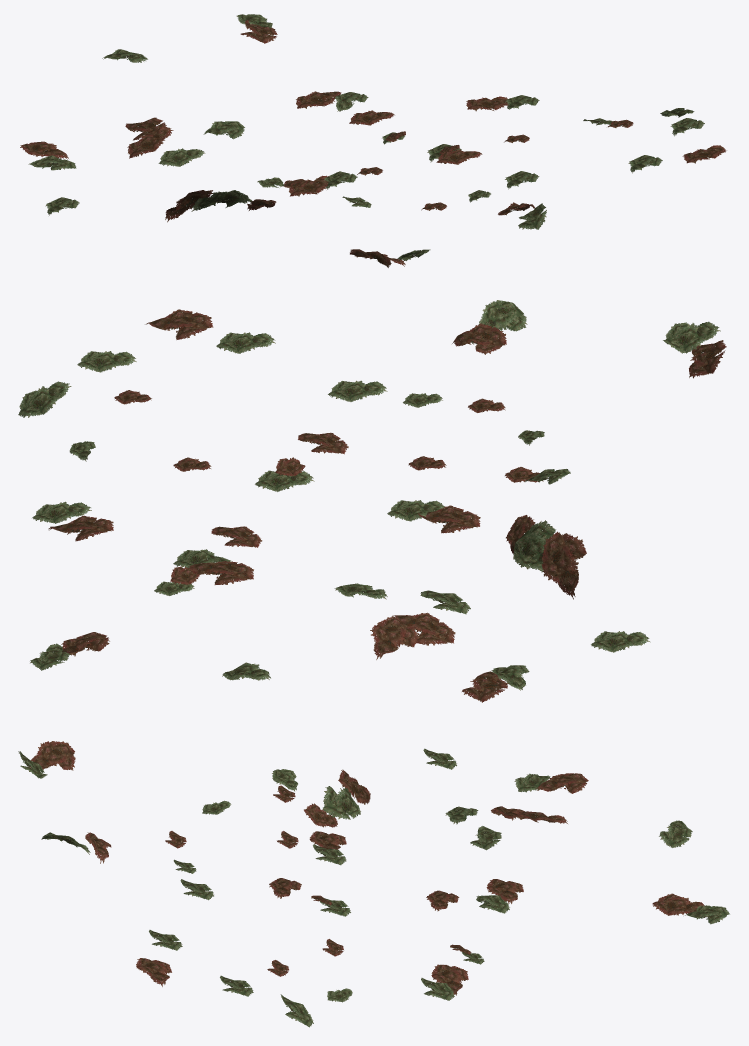
File: town_bushes.fbx
3 views of the same model, one above another, from view 1: azimuth 30°, elevation 25°; view 2: azimuth 150°, elevation 25°; view 3: azimuth 270°, elevation 25° (orthographic). The views are drawn at different scales.
Visible parts, largest first — view 1: town_bushes-0; view 2: town_bushes-0; view 3: town_bushes-0.
Boxes of the visible parts, bbox=[...] form: town_bushes-0: bbox=[20, 14, 726, 267]; town_bushes-0: bbox=[18, 300, 726, 702]; town_bushes-0: bbox=[18, 741, 729, 1027].
Bounding box in the file's own units: 75.04 × 13.32 × 80.7.
